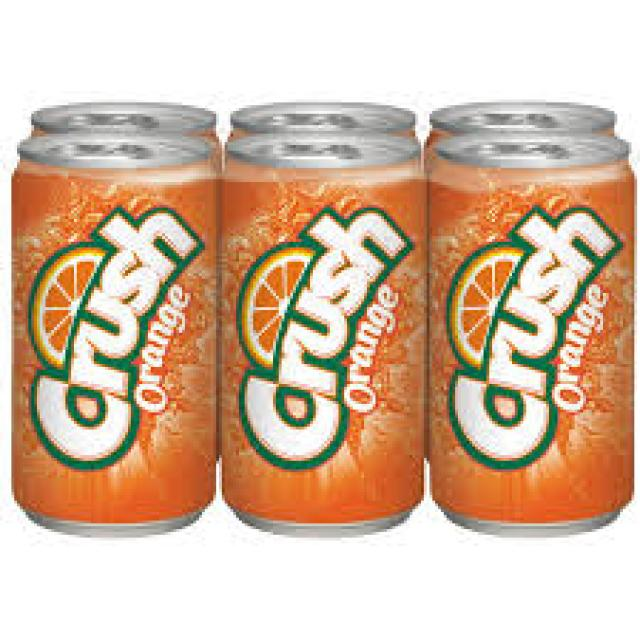Cans: (6, 128, 224, 546), (418, 128, 640, 538), (211, 133, 435, 534)
